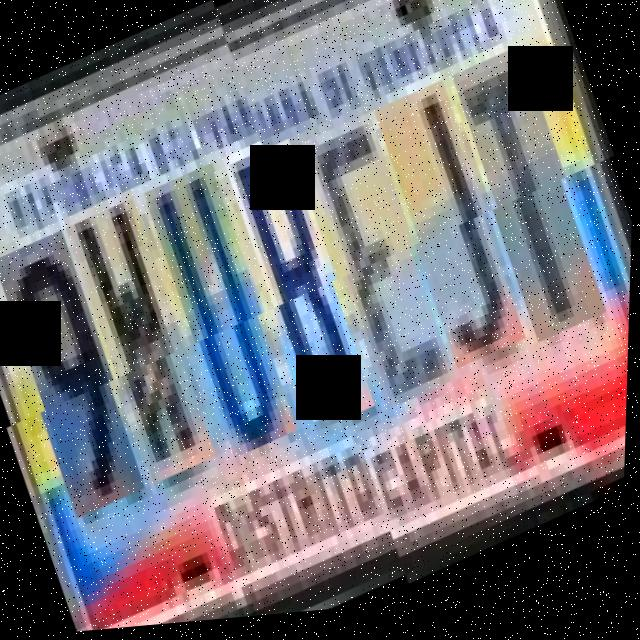9: (0, 233, 163, 534)
B: (220, 138, 389, 445)
E: (296, 112, 470, 423)
J: (369, 81, 539, 382)
T: (446, 47, 620, 358)
U: (143, 169, 317, 478)
W: (62, 193, 236, 502)
